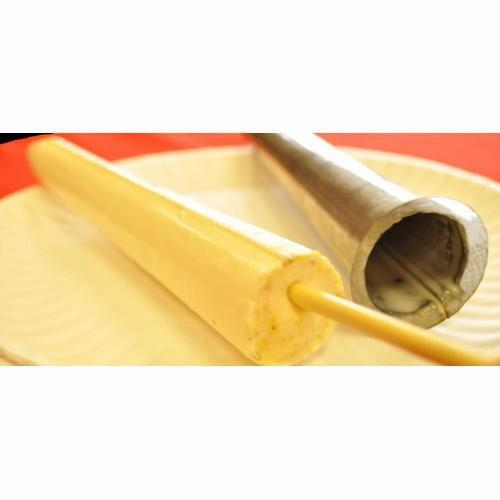Kulfi: (29, 137, 344, 365)
